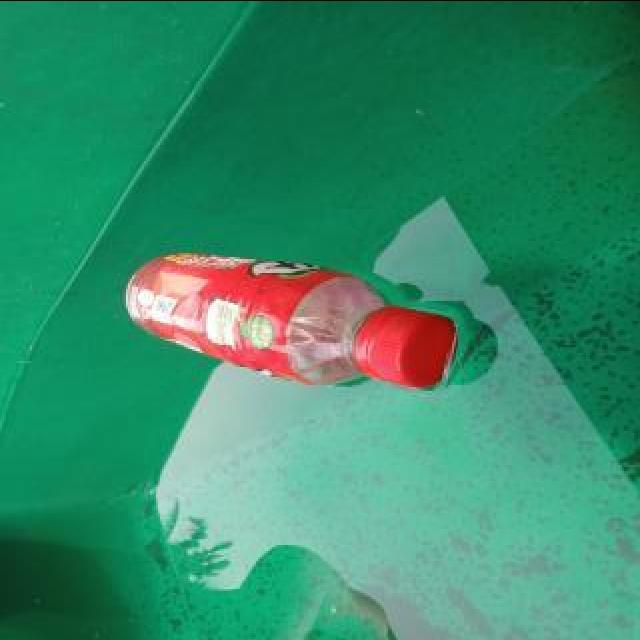Bottle: (120, 245, 462, 398)
